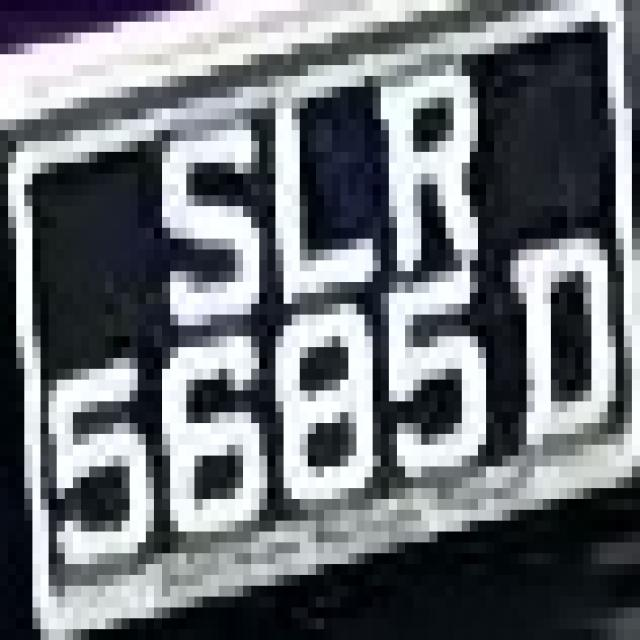5: (365, 228, 486, 520), (40, 336, 154, 575)
6: (154, 314, 275, 586)
8: (251, 260, 397, 510)
D: (510, 196, 616, 467)
L: (259, 65, 381, 260)
R: (372, 76, 518, 271)
S: (138, 65, 259, 336)
